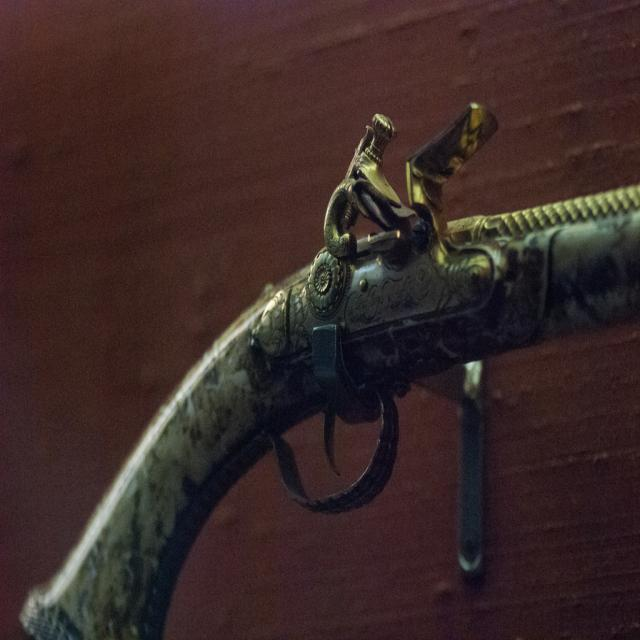heavy-weapon: (56, 108, 630, 634)
